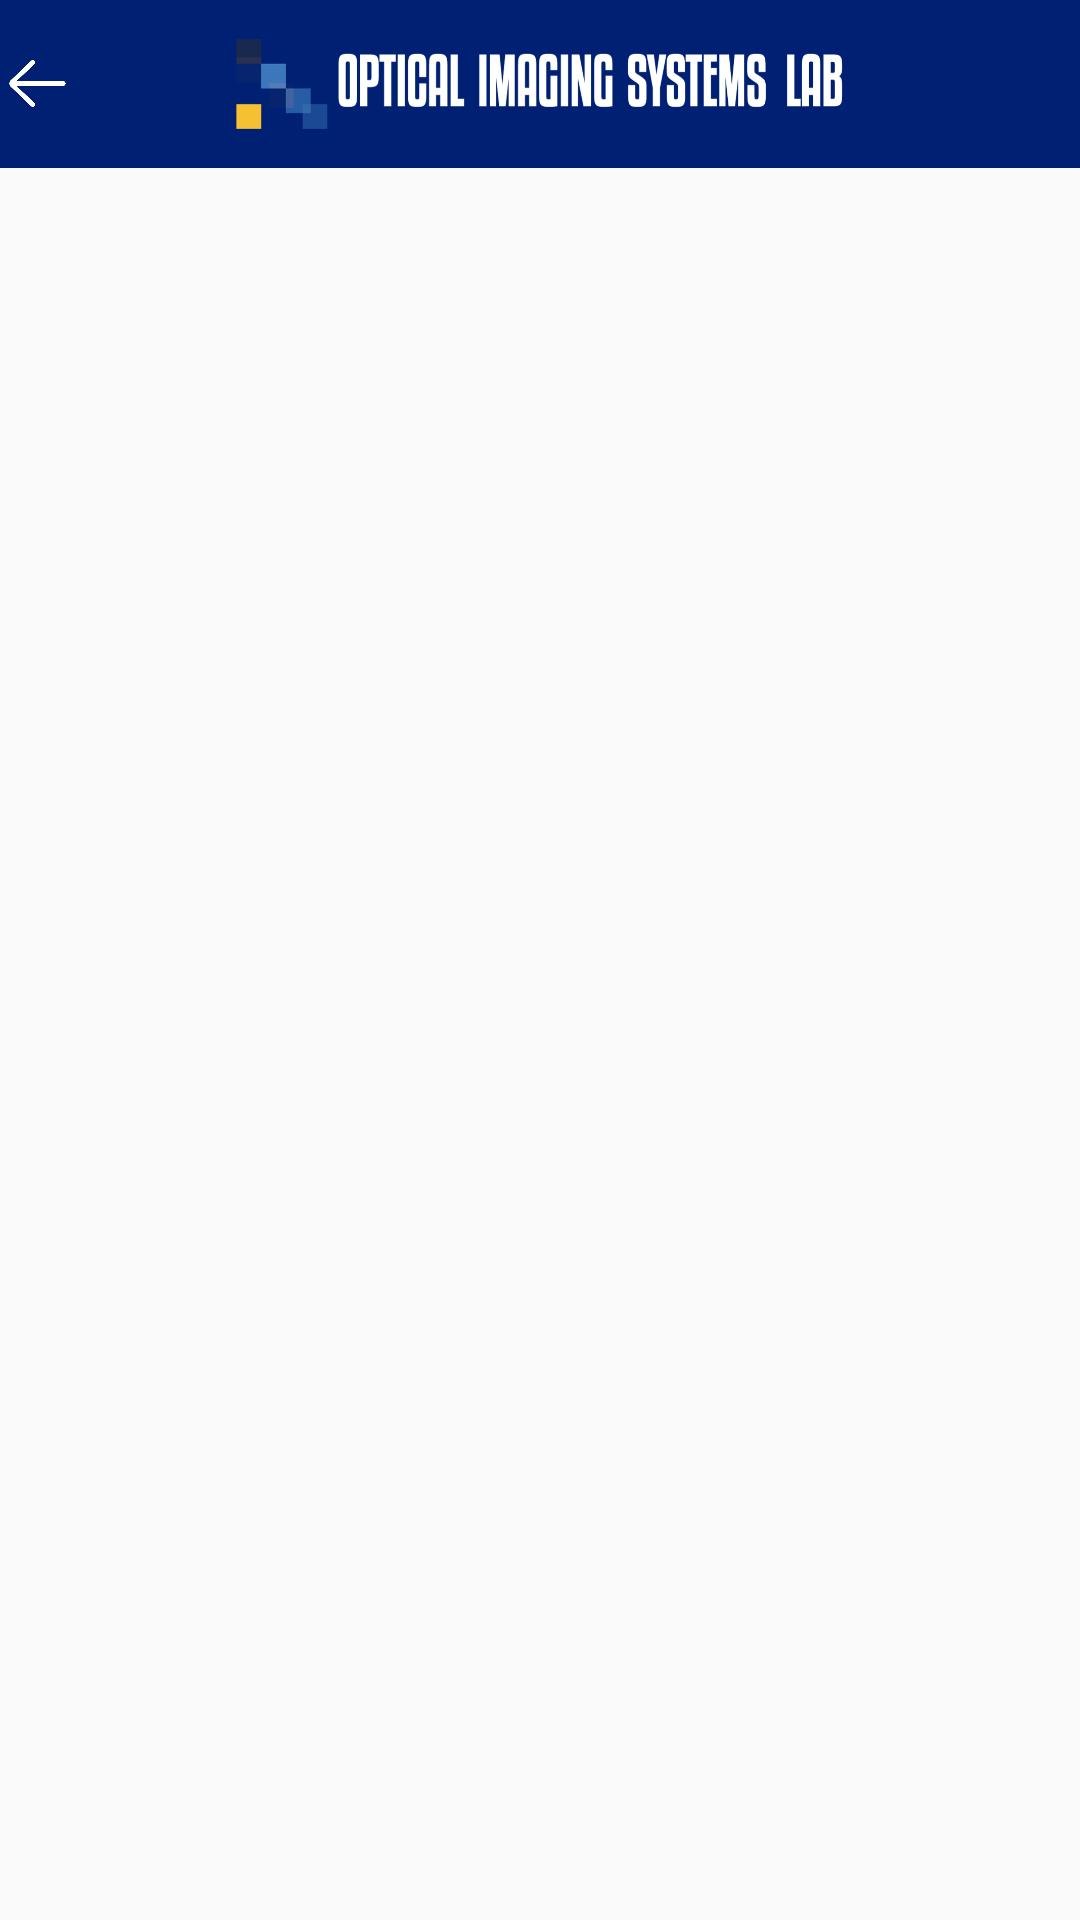

Icons on this 1080×1920 Android screen, each with the point to tap as point (x, y):
back: point (37, 83)
